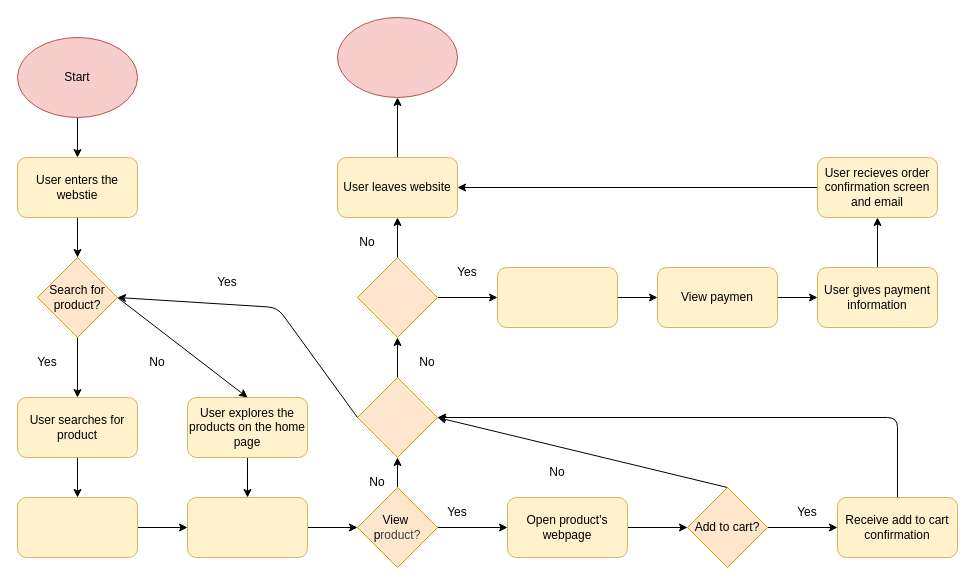
Some shapes in this 975 by 585 pixel diagram are drawn without their labels. Here are the shapes that lost their labels. From the top down, the box of each, then its label:
(336, 16, 458, 98): End
(356, 256, 438, 338): Checkout?
(496, 266, 618, 328): View Cart
(356, 376, 438, 458): Continue shopping?
(16, 496, 138, 558): User provides input to the website of their search
(186, 496, 308, 558): User begins looking over products
